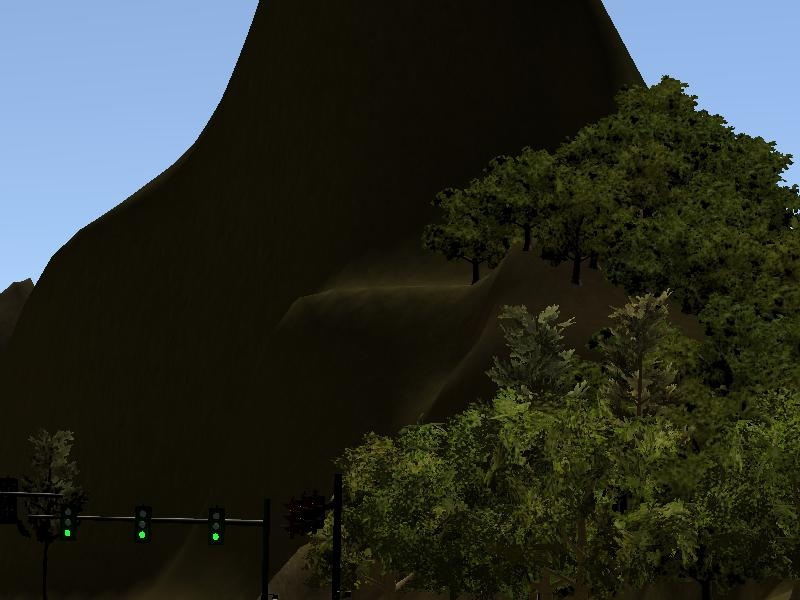green: (208, 506, 224, 548), (134, 505, 150, 547), (60, 501, 76, 543)
